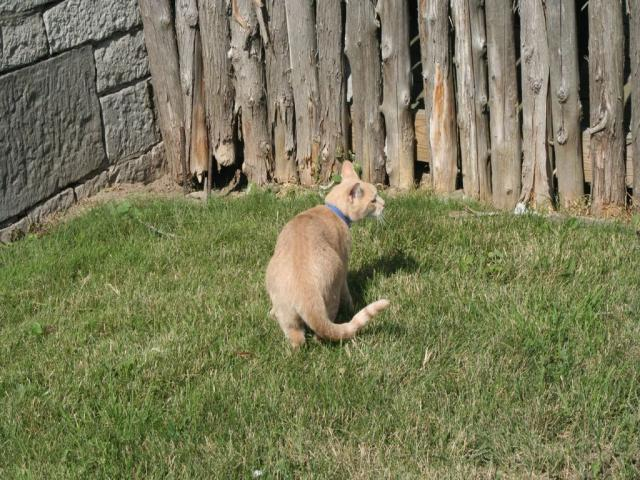Cat: (258, 159, 396, 353)
